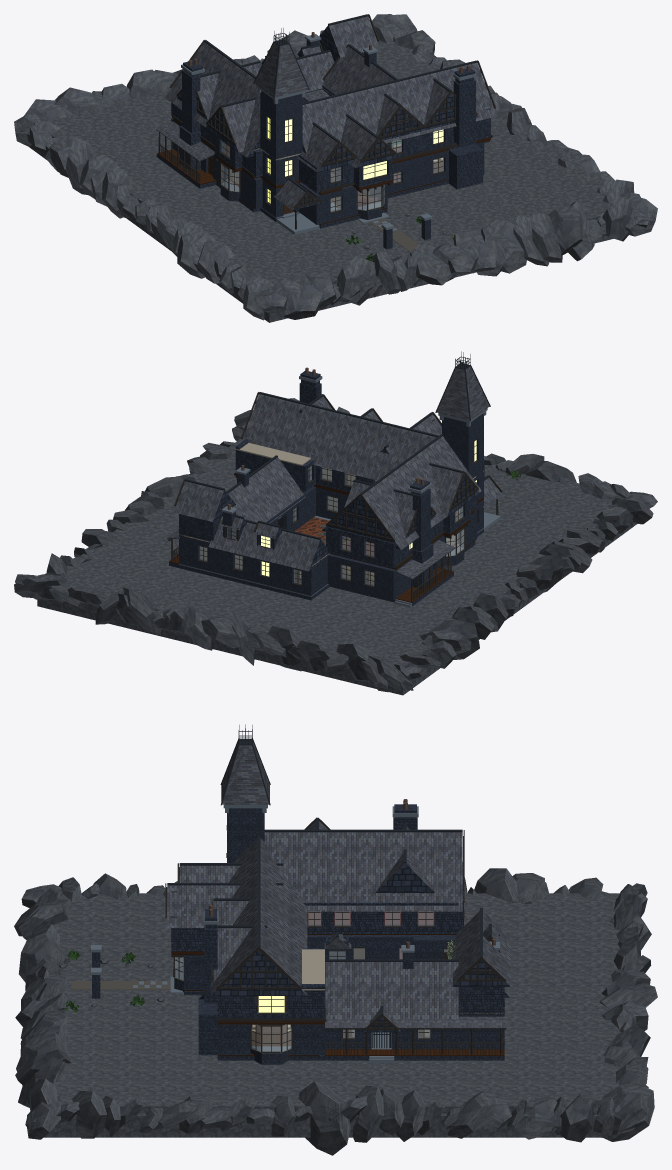
Rendered from casa-o-impostor-pisos_SUBSTITUIDO_0310.glb.
3 views of the same model, one above another, from view 1: azimuth 30°, elevation 25°; view 2: azimuth 150°, elevation 25°; view 3: azimuth 270°, elevation 25° (orthographic). The views are drawn at different scales.
Visible parts, largest first — view 1: rochedo (×30), terreno-oeste, terreno-leste, telhado-ala-sul, terreno-sul, telhado-ala-oeste, corucheu, telhado-ala-leste, telhado-sotao-cozinha, empena-oeste-bay, fuste-chamine-leste-meio, telhado-da-entrada (+20 smaller); view 2: terreno-oeste, rochedo (×23), telhado-ala-sul, terreno-leste, telhado-ala-oeste, terreno-norte, rocha-base, telhado-ala-norte, telhado-ala-leste, parede-norte-seg (×3), corucheu, telhado-sotao-cozinha (+13 smaller); view 3: rochedo (×26), terreno-leste, terreno-oeste, telhado-ala-oeste, telhado-ala-sul, telhado-ala-leste, terreno-sul, terreno-norte, rocha-base, corucheu, telhado-da-entrada, parede-leste-bloco-se-seg (×2) (+23 smaller).
Part boxes in pixels (x1,y1,x2,y2): rochedo (×30): [24, 14, 657, 320]; terreno-oeste: [34, 90, 438, 289]; terreno-leste: [376, 40, 612, 228]; telhado-ala-sul: [302, 62, 496, 153]; terreno-sul: [387, 183, 516, 245]; telhado-ala-oeste: [165, 42, 260, 157]; corucheu: [254, 43, 307, 97]; telhado-ala-leste: [322, 46, 394, 95]; telhado-sotao-cozinha: [319, 16, 379, 57]; empena-oeste-bay: [205, 99, 255, 152]; fuste-chamine-leste-meio: [453, 80, 475, 145]; telhado-da-entrada: [341, 117, 399, 168]; terreno-oeste: [239, 464, 623, 668]; rochedo (×23): [14, 460, 653, 690]; telhado-ala-sul: [241, 394, 436, 480]; terreno-leste: [64, 439, 241, 600]; telhado-ala-oeste: [321, 436, 481, 549]; terreno-norte: [150, 571, 274, 619]; rocha-base: [37, 522, 637, 695]; telhado-ala-norte: [208, 516, 329, 571]; telhado-ala-leste: [228, 457, 305, 523]; parede-norte-seg (×3): [179, 535, 294, 591]; corucheu: [437, 366, 489, 420]; telhado-sotao-cozinha: [174, 481, 235, 521]; rochedo (×26): [15, 868, 657, 1155]; terreno-leste: [46, 1047, 622, 1113]; terreno-oeste: [51, 893, 620, 997]; telhado-ala-oeste: [264, 832, 462, 911]; telhado-ala-sul: [210, 838, 307, 995]; telhado-ala-leste: [325, 962, 458, 1019]; terreno-sul: [47, 997, 199, 1047]; terreno-norte: [504, 997, 621, 1047]; rocha-base: [44, 1113, 601, 1137]; corucheu: [221, 740, 269, 804]; telhado-da-entrada: [167, 885, 283, 927]; parede-leste-bloco-se-seg (×2): [217, 1024, 324, 1055].
Bounding box in the file's own units: 47.11 × 24.19 × 53.2.
Materials: 103 (24 with a texture image).
